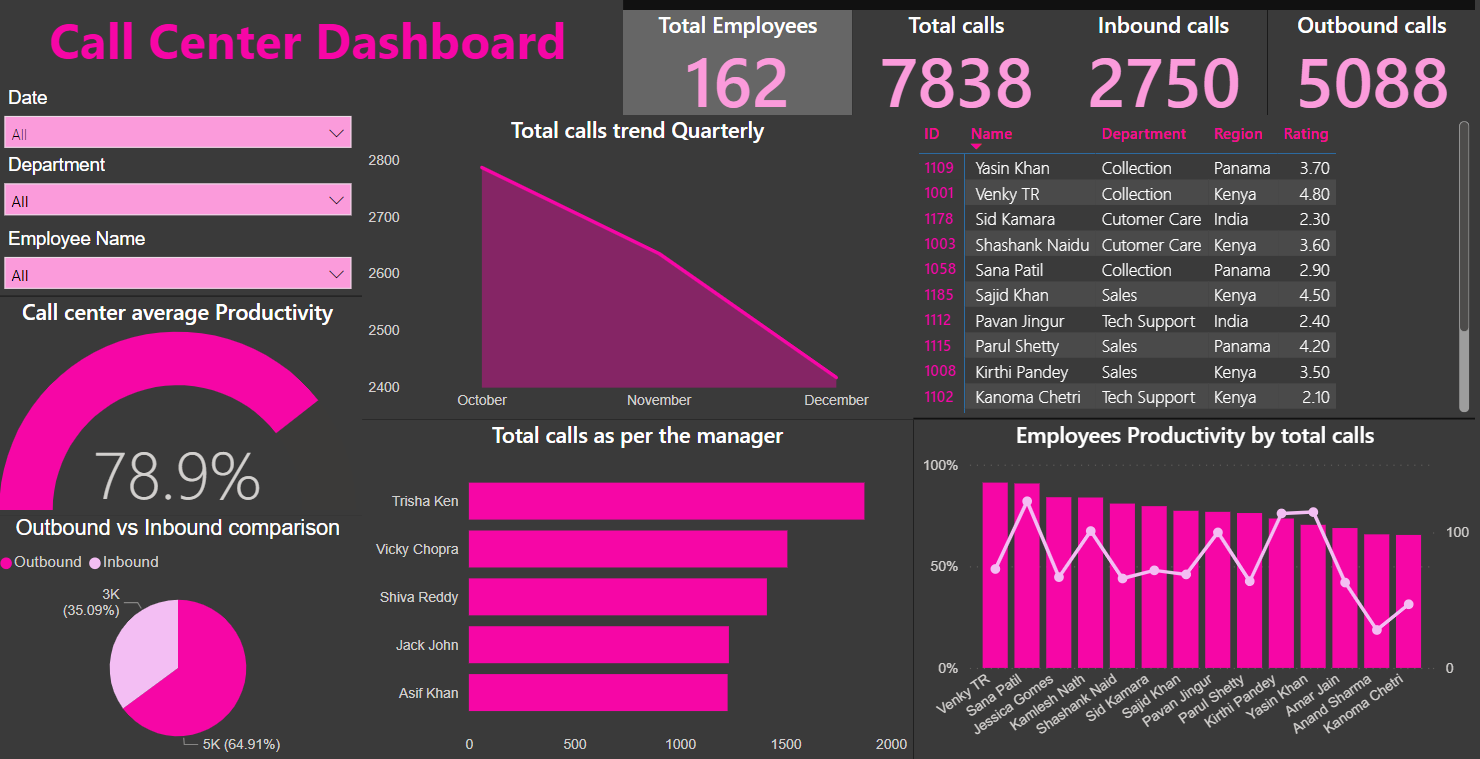

The page's visual inventory and layout, read from the dashboard file:
{"tool":"powerbi","page":{"name":"Page 1","canvas":[1280,720],"ordinal":0},"visuals":[{"type":"textbox","box":[0,60.4,543.7,100.1],"z":0},{"type":"slicer","fields":{"Values":["Call Data.Weekend"]},"box":[0,130.3,319.1,58.5],"z":1000},{"type":"slicer","fields":{"Values":["Process Data.Name"]},"box":[0,253,319.1,64.2],"z":2000},{"type":"card","title":"Total Employees","fields":{"Values":["Call Data.Emp_ID"]},"box":[543.7,69.9,198.2,90.6],"z":3000},{"type":"card","title":"Total calls","fields":{"Values":["Call Data.Total Calls"]},"box":[741.9,69.9,179.4,90.6],"z":4000},{"type":"card","title":"Outbound calls","fields":{"Values":["Call Data.Outbound"]},"box":[1100.6,69.9,179.4,90.6],"z":5000},{"type":"card","title":"Inbound calls","fields":{"Values":["Call Data.Inbound"]},"box":[921.3,69.9,179.4,90.6],"z":6000},{"type":"areaChart","title":"Total calls trend Quarterly","fields":{"Y":["Call Data.Total Calls"],"Category":["Call Data.Weekend.Variation.Date Hierarchy.Month"]},"box":[319.1,160.5,475.8,262.4],"z":7000},{"type":"pivotTable","fields":{"Rows":["Process Data.Emp_ID"],"Values":["Process Data.Name","Process Data.Process","Process Data.Region","Process Data.Rating"]},"box":[794.3,161,485.7,261.6],"z":8000},{"type":"barChart","title":"Total calls as per the manager","fields":{"Category":["Manager Data.Manager"],"Y":["Call Data.Total Calls"]},"box":[319.1,422.9,475.8,296.4],"z":9000},{"type":"lineStackedColumnComboChart","title":"Employees Productivity by total calls","fields":{"Category":["Call Data.Name"],"Y":["Call Data.Productivity"],"Y2":["Call Data.Total Calls"]},"box":[794.8,422.9,485.2,296.4],"z":10000},{"type":"pieChart","title":"Outbound vs Inbound comparison","fields":{"Y":["Call Data.Outbound","Call Data.Inbound"]},"box":[0,506,319,213],"z":11000},{"type":"slicer","fields":{"Values":["Process Data.Process"]},"box":[0,188.8,319.1,64.2],"z":12000},{"type":"gauge","title":"Call center average Productivity","fields":{"Y":["Call Data.Productivity"]},"box":[0,316.9,318.4,189.5],"z":13001}]}

Visuals, with their boxes on the page's 1280x720 design canvas (x1, y1, x2, y2). These are canvas units, not pixel positions in the 1480x759 screenshot, which may show the page scaled, cropped or inside an application window:
textbox: (x1=0, y1=60, x2=544, y2=160)
slicer - Call Data.Weekend: (x1=0, y1=130, x2=319, y2=189)
slicer - Process Data.Name: (x1=0, y1=253, x2=319, y2=317)
"Total Employees" card: (x1=544, y1=70, x2=742, y2=160)
"Total calls" card: (x1=742, y1=70, x2=921, y2=160)
"Outbound calls" card: (x1=1101, y1=70, x2=1280, y2=160)
"Inbound calls" card: (x1=921, y1=70, x2=1101, y2=160)
"Total calls trend Quarterly" areaChart: (x1=319, y1=160, x2=795, y2=423)
pivotTable - Process Data.Emp_ID x Process Data.Name: (x1=794, y1=161, x2=1280, y2=423)
"Total calls as per the manager" barChart: (x1=319, y1=423, x2=795, y2=719)
"Employees Productivity by total calls" lineStackedColumnComboChart: (x1=795, y1=423, x2=1280, y2=719)
"Outbound vs Inbound comparison" pieChart: (x1=0, y1=506, x2=319, y2=719)
slicer - Process Data.Process: (x1=0, y1=189, x2=319, y2=253)
"Call center average Productivity" gauge: (x1=0, y1=317, x2=318, y2=506)
